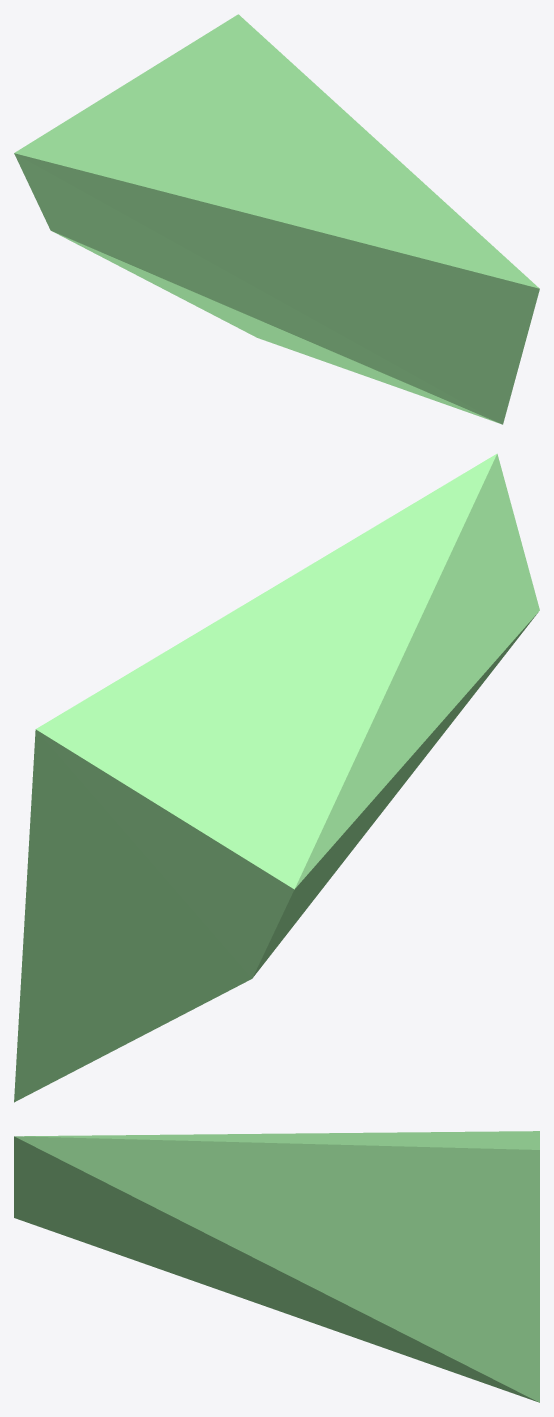
Rendered from UMIRobot_UMIRobot_link_2_convex_coll_23.dae.
The picture shows the model from 3 angles, top to bottom: view 1: azimuth 30°, elevation 25°; view 2: azimuth 150°, elevation 25°; view 3: azimuth 270°, elevation 25°; orthographic projection. The views are drawn at different scales.
Parts seen in each view (by area): view 1: node; view 2: node; view 3: node.
Part boxes in pixels (left/top/right/bottom): node: left=14, top=14, right=539, bottom=424; node: left=14, top=453, right=539, bottom=1102; node: left=14, top=1131, right=539, bottom=1402.
Bounding box in the file's own units: 0.0056 × 0.00722 × 0.014.
